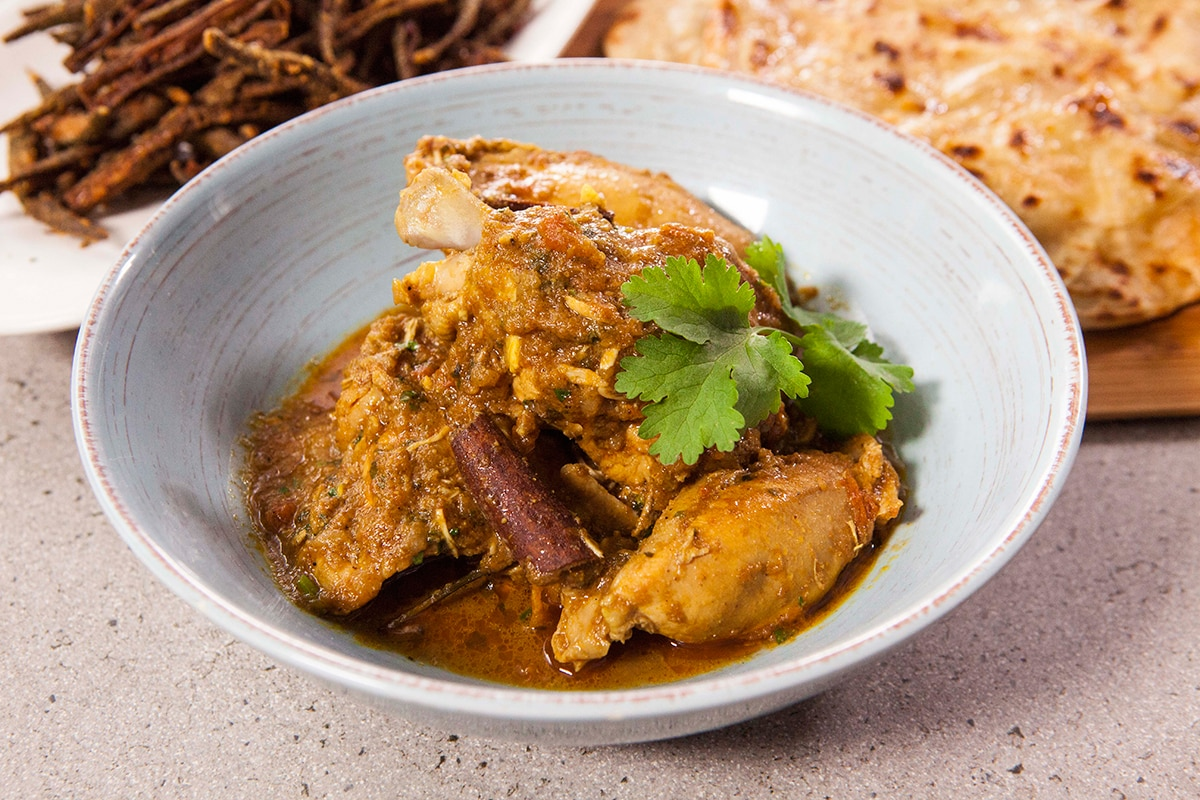chicken_curry: (274, 183, 883, 667)
